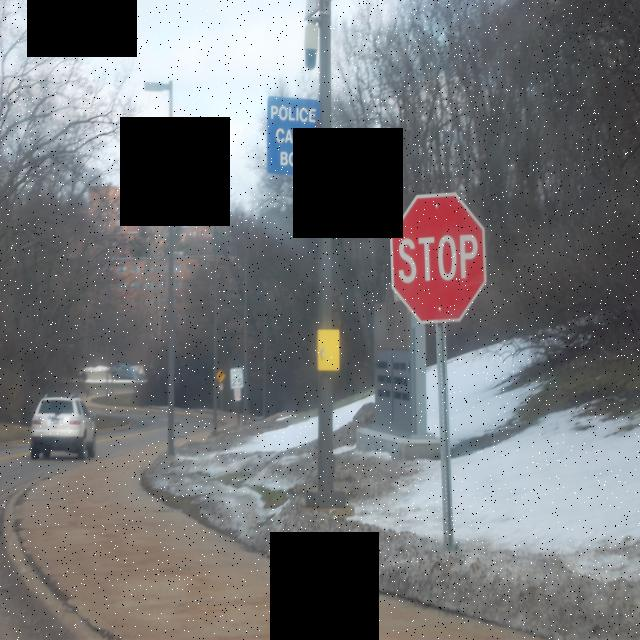regulatory: (230, 367, 244, 388), (233, 387, 242, 402)
stop: (388, 191, 492, 326)
warning: (216, 368, 225, 384)
